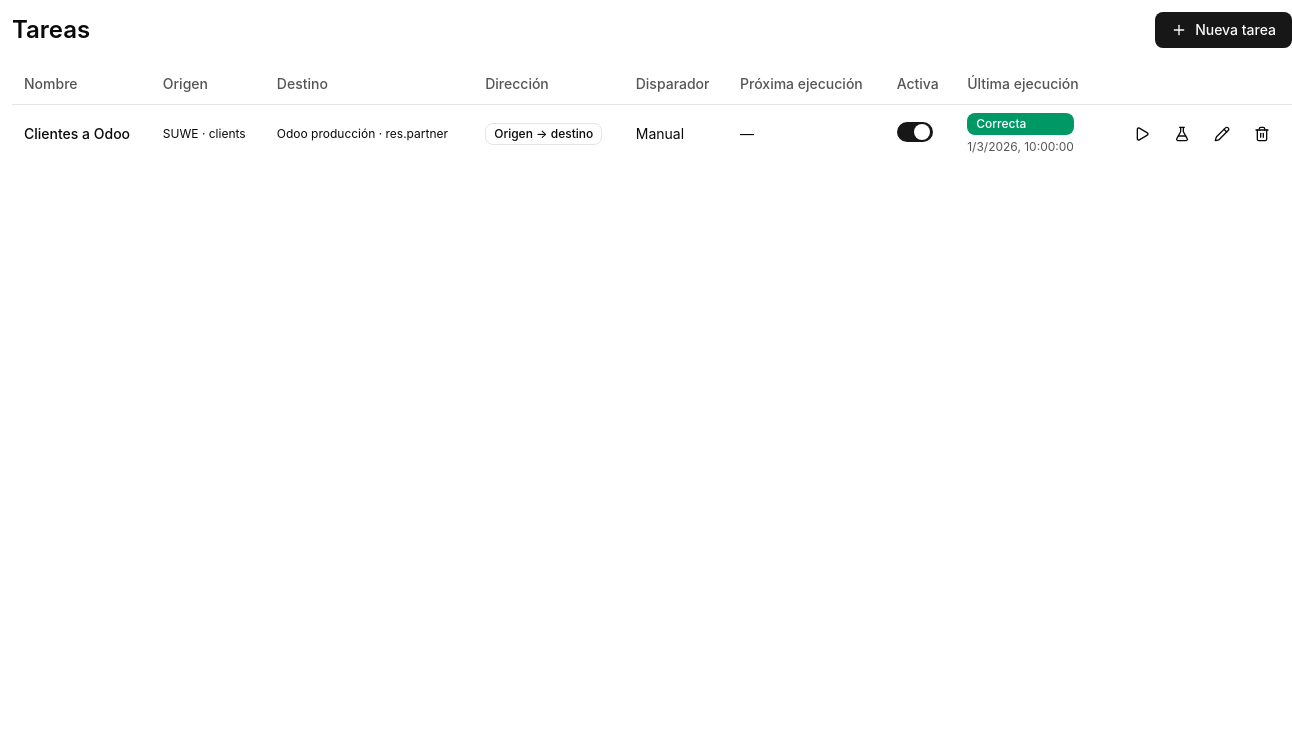
Test: JobsPage › reports a failed toggle
This screenshot has width=1292, height=732.
Click the switch named "Activa: Clientes a Odoo".
click(915, 132)  # box x1=897 y1=122 x2=933 y2=142
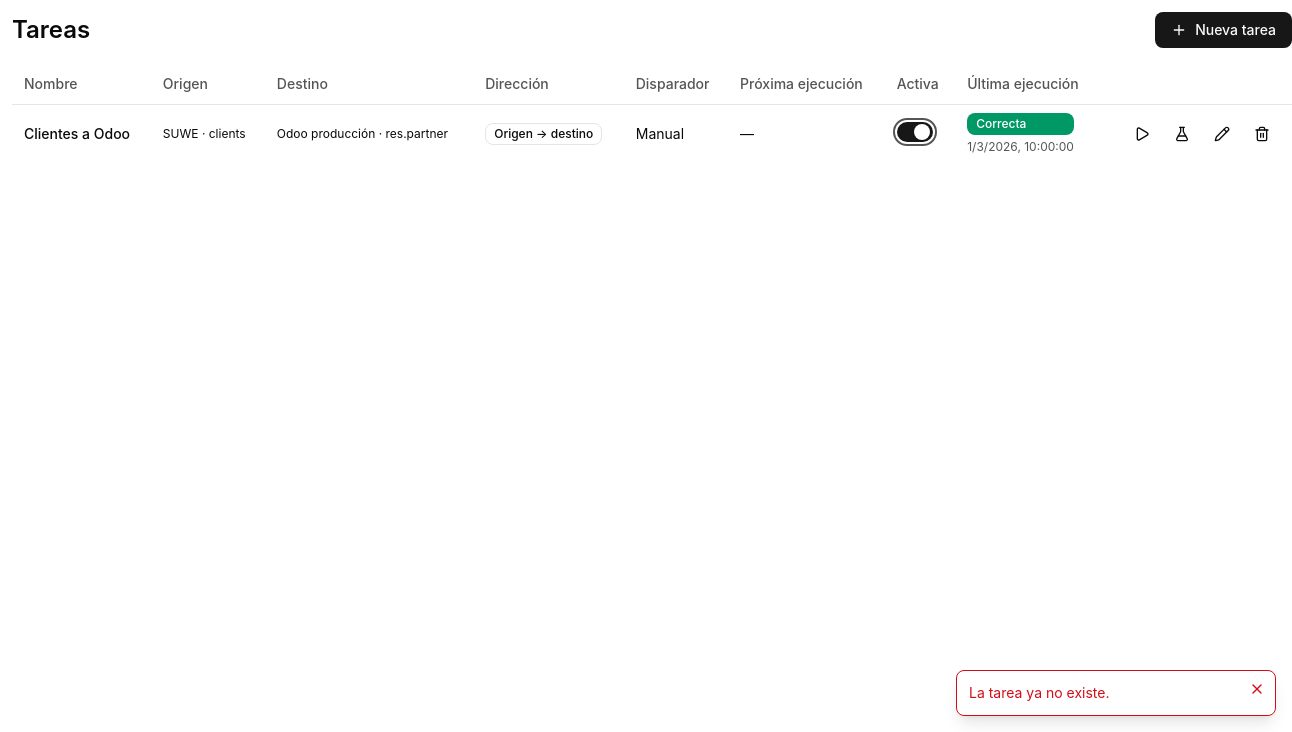
expect the message shows "La tarea ya no existe": met, box x1=969 y1=684 x2=1110 y2=701
